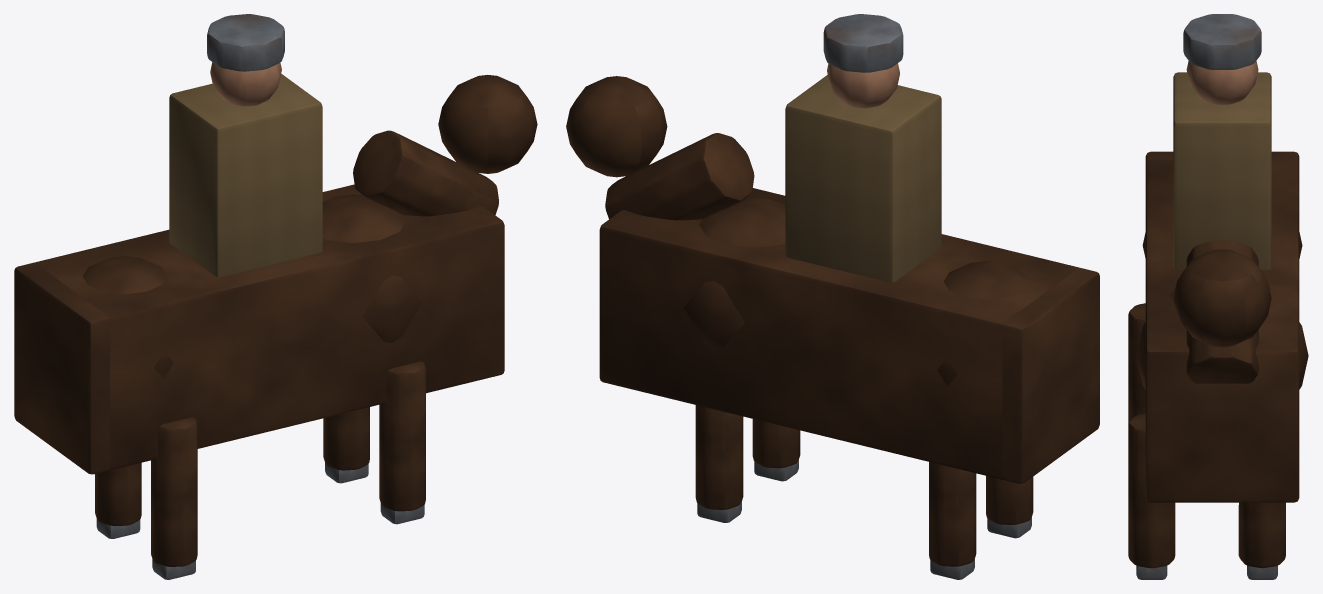
The model's file is unit_cavalry.fbx.
3 views of the same model, side by side, from view 1: azimuth 30°, elevation 25°; view 2: azimuth 150°, elevation 25°; view 3: azimuth 270°, elevation 25° (orthographic). The views are drawn at different scales.
Parts seen in each view (by area): view 1: unit_cavalry; view 2: unit_cavalry; view 3: unit_cavalry.
Boxes of the visible parts, x1,y1,x2,y2 form: unit_cavalry: [14, 14, 537, 579]; unit_cavalry: [566, 14, 1099, 579]; unit_cavalry: [1128, 14, 1308, 579].
Bounding box in the file's own units: 1.78 × 1.75 × 0.5864.
